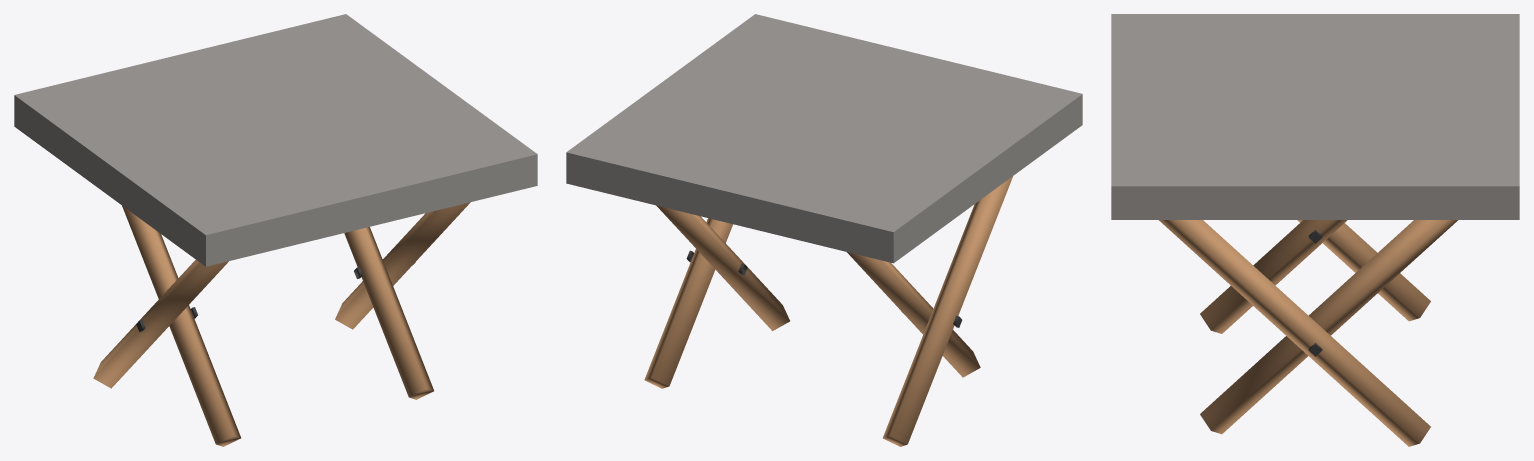
The model's file is Furniture_Table_00 dummy.FBX.
3 views of the same model, side by side, from view 1: azimuth 30°, elevation 25°; view 2: azimuth 150°, elevation 25°; view 3: azimuth 270°, elevation 25° (orthographic). The views are drawn at different scales.
Visible parts, largest first — view 1: table_1tile; view 2: table_1tile; view 3: table_1tile.
Part boxes in pixels (x1,y1,x2,y2): table_1tile: [14, 14, 537, 446]; table_1tile: [566, 14, 1082, 446]; table_1tile: [1111, 14, 1519, 446].
Bounding box in the file's own units: 55 × 42.23 × 55.
